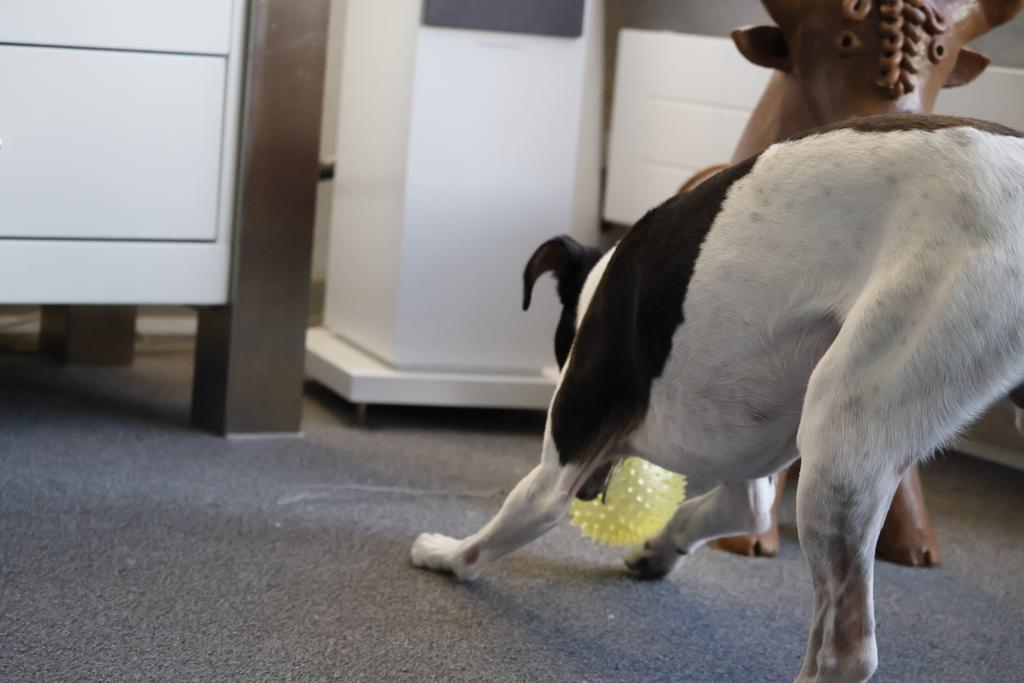Cattle: (654, 0, 1024, 574)
Dog: (393, 100, 1024, 683)
